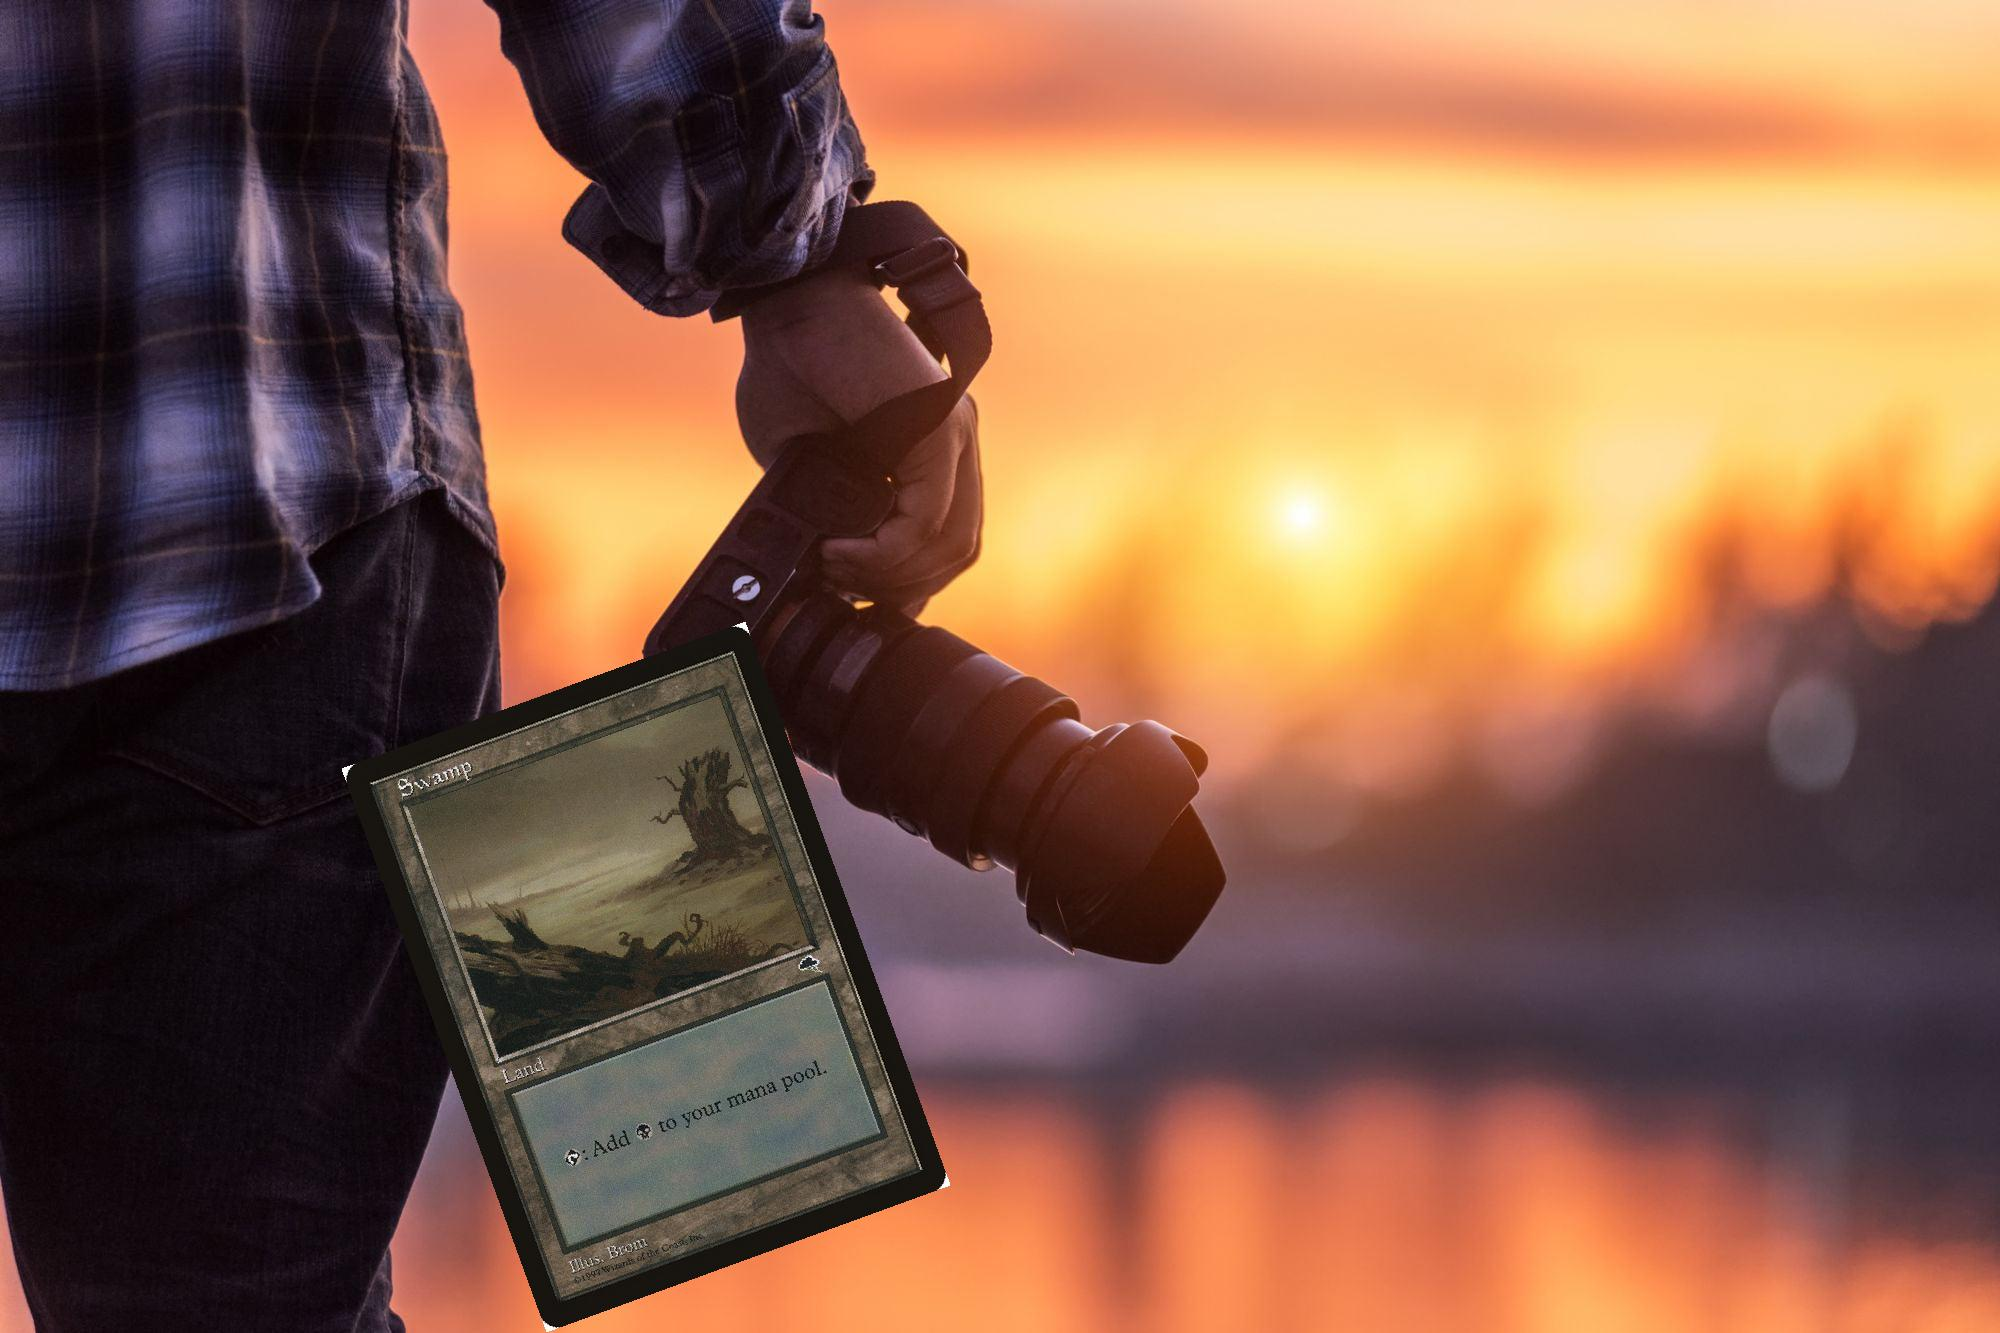mtgCard: (341, 620, 952, 1333)
